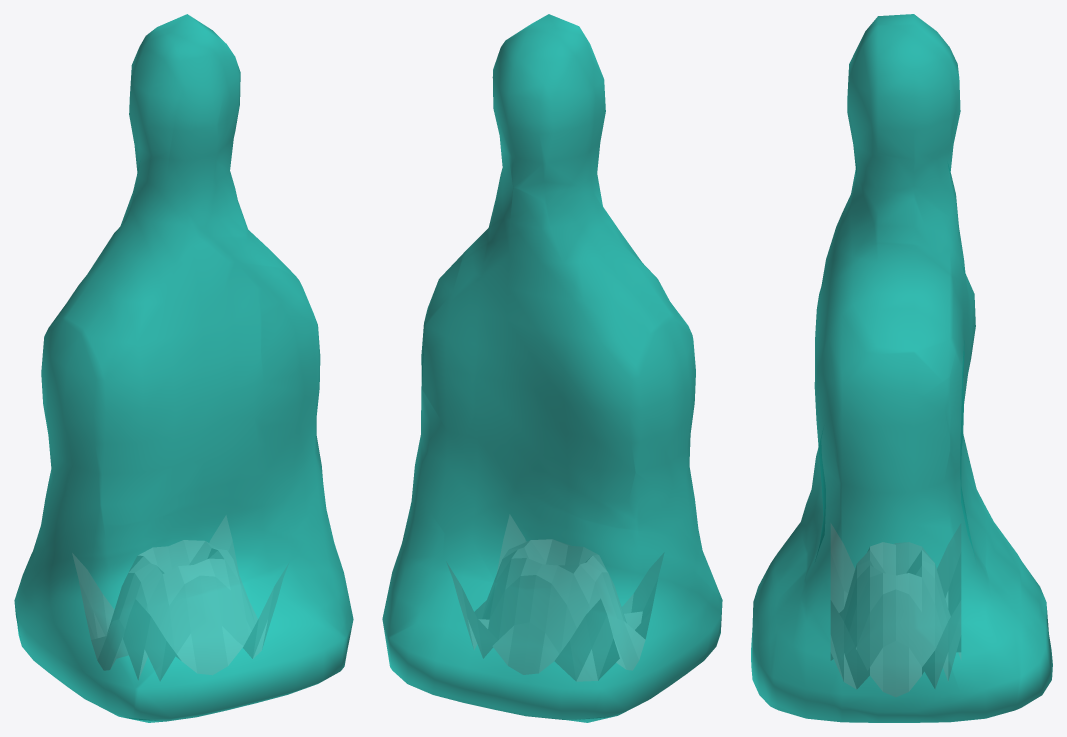
3 views of the same model, side by side, from view 1: azimuth 30°, elevation 25°; view 2: azimuth 150°, elevation 25°; view 3: azimuth 270°, elevation 25° (orthographic). The views are drawn at different scales.
Parts seen in each view (by area): view 1: Liquid_Domain, グリッド; view 2: Liquid_Domain, グリッド; view 3: Liquid_Domain, グリッド.
Boxes of the visible parts, x1=… form: Liquid_Domain: x1=14, y1=14, x2=353, y2=722; グリッド: x1=72, y1=515, x2=288, y2=680; Liquid_Domain: x1=382, y1=14, x2=722, y2=722; グリッド: x1=447, y1=515, x2=663, y2=681; Liquid_Domain: x1=751, y1=14, x2=1052, y2=722; グリッド: x1=831, y1=524, x2=960, y2=696.
Size of the model in its own units: 0.7473 by 1.7 by 0.6945.
